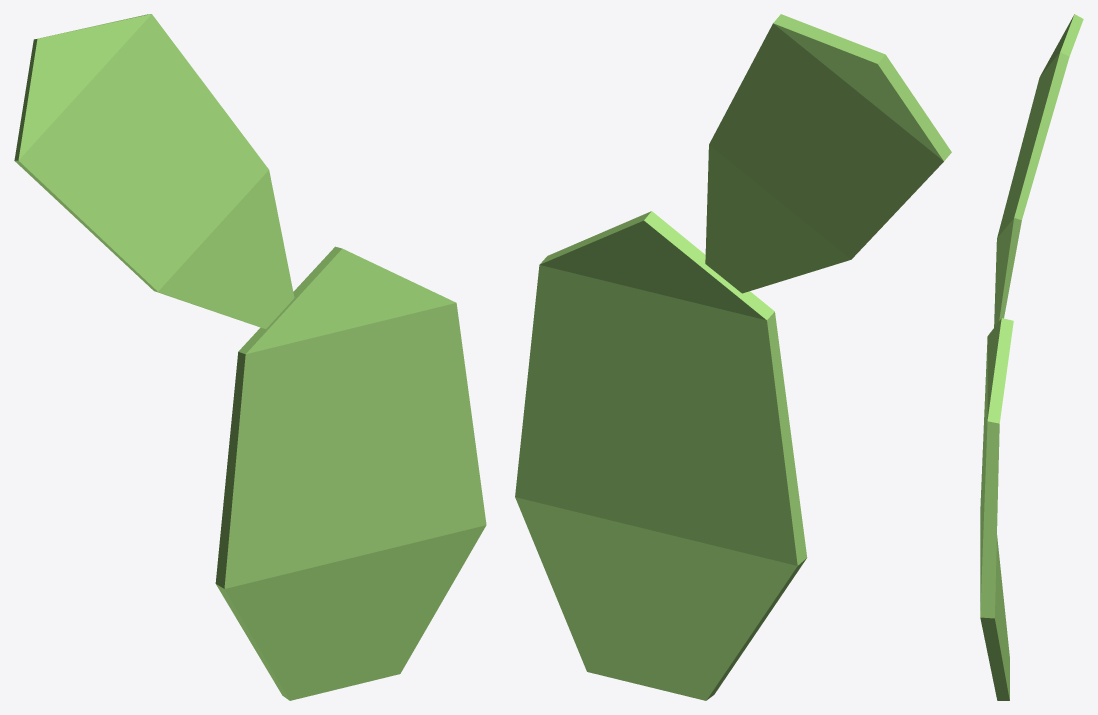
Rendered from Cactus_c_m_01.fbx.
3 renders of one model, left to right at view 1: azimuth 30°, elevation 25°; view 2: azimuth 150°, elevation 25°; view 3: azimuth 270°, elevation 25°, orthographic. The views are drawn at different scales.
Visible parts, largest first — view 1: Cactus_c_m_01; view 2: Cactus_c_m_01; view 3: Cactus_c_m_01.
Boxes of the visible parts, <box> form: Cactus_c_m_01: <box>14,14,486,700</box>; Cactus_c_m_01: <box>515,14,951,700</box>; Cactus_c_m_01: <box>980,14,1083,700</box>.
Size of the model in its own units: 83.75 by 127 by 21.05.
